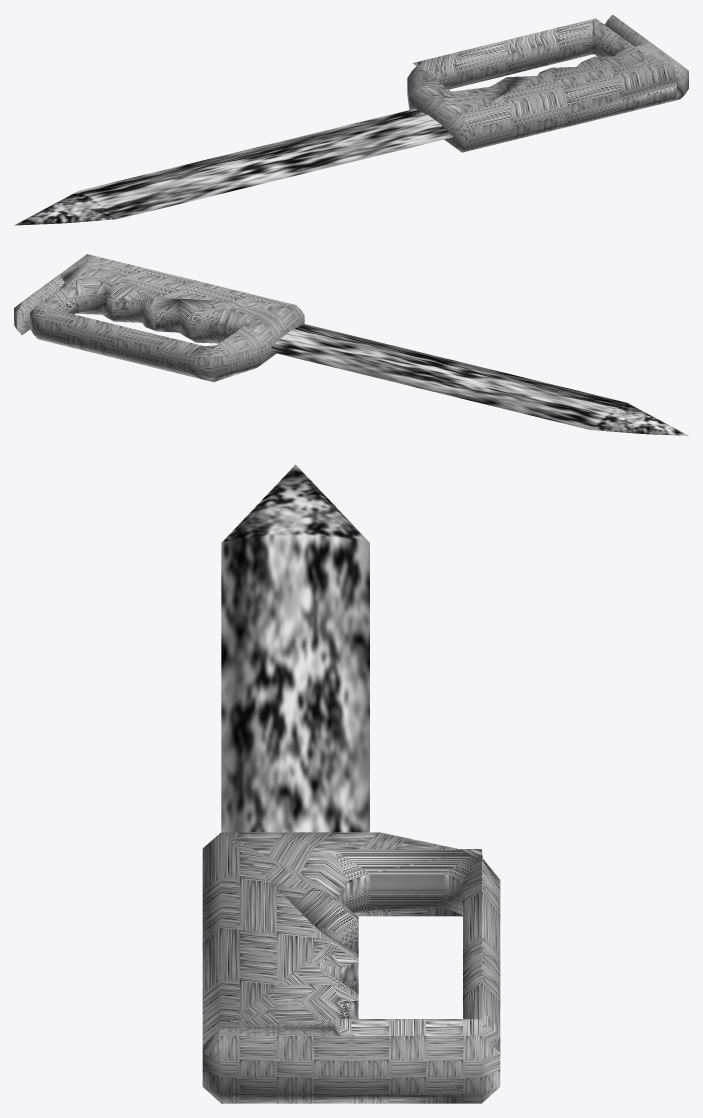
The model's file is dagger.fbx.
3 renders of one model, top to bottom at view 1: azimuth 30°, elevation 25°; view 2: azimuth 150°, elevation 25°; view 3: azimuth 270°, elevation 25°, orthographic. The views are drawn at different scales.
Visible parts, largest first — view 1: Sword.2H; view 2: Sword.2H; view 3: Sword.2H.
Part boxes in pixels (bbox=[...]): Sword.2H: bbox=[14, 14, 688, 225]; Sword.2H: bbox=[14, 254, 688, 435]; Sword.2H: bbox=[202, 464, 500, 1103].
Size of the model in its own units: 39 by 2 by 8.
